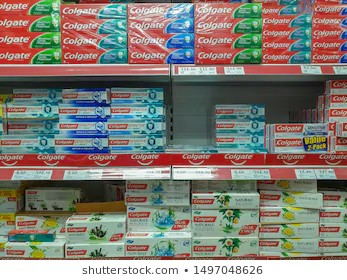colgate-family: (193, 209, 258, 237)
colgate-medium: (60, 47, 125, 66), (128, 46, 194, 64), (194, 46, 260, 64), (129, 30, 197, 46), (194, 19, 266, 34), (61, 31, 127, 47), (60, 16, 130, 30), (62, 3, 130, 16), (196, 35, 261, 48), (129, 16, 192, 29), (261, 24, 310, 38), (261, 39, 312, 52), (260, 52, 312, 64), (265, 14, 310, 24)
